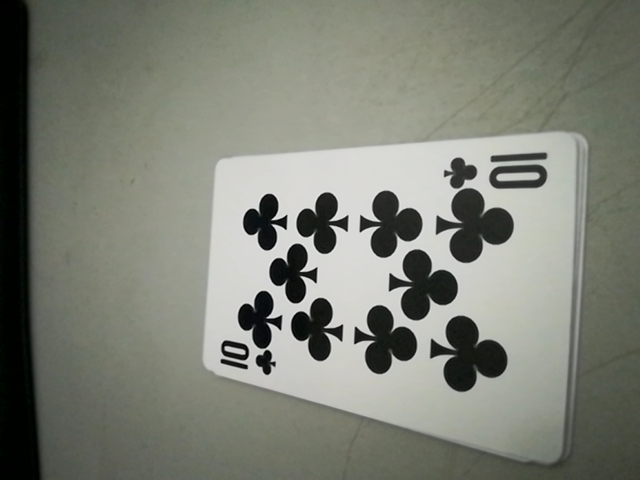mh 10: (440, 146, 561, 193), (213, 341, 280, 383)
